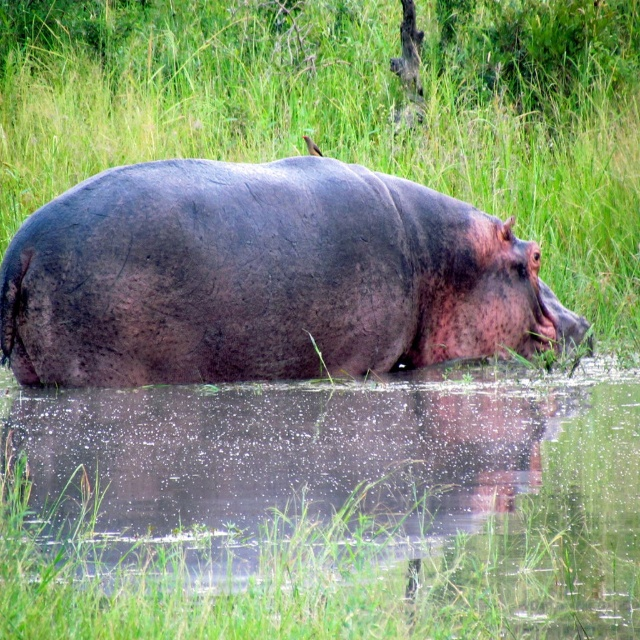Hippopotamus: (1, 153, 594, 387)
